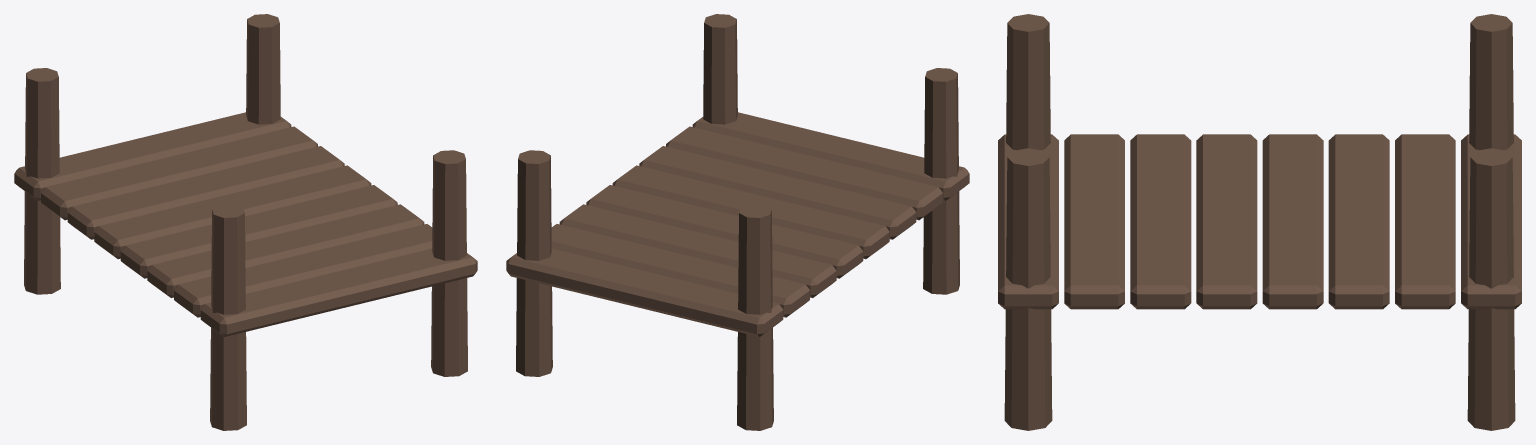
Rendered from SH10_L07_Jetty.fbx.
The picture shows the model from 3 angles, left to right: view 1: azimuth 30°, elevation 25°; view 2: azimuth 150°, elevation 25°; view 3: azimuth 270°, elevation 25°; orthographic projection. The views are drawn at different scales.
Parts seen in each view (by area): view 1: SH10_L07_Jetty; view 2: SH10_L07_Jetty; view 3: SH10_L07_Jetty.
Part boxes in pixels (left/top/right/bottom): SH10_L07_Jetty: left=14, top=14, right=477, bottom=430; SH10_L07_Jetty: left=506, top=14, right=969, bottom=430; SH10_L07_Jetty: left=998, top=14, right=1521, bottom=430.
Size of the model in its own units: 140 by 110 by 198.
